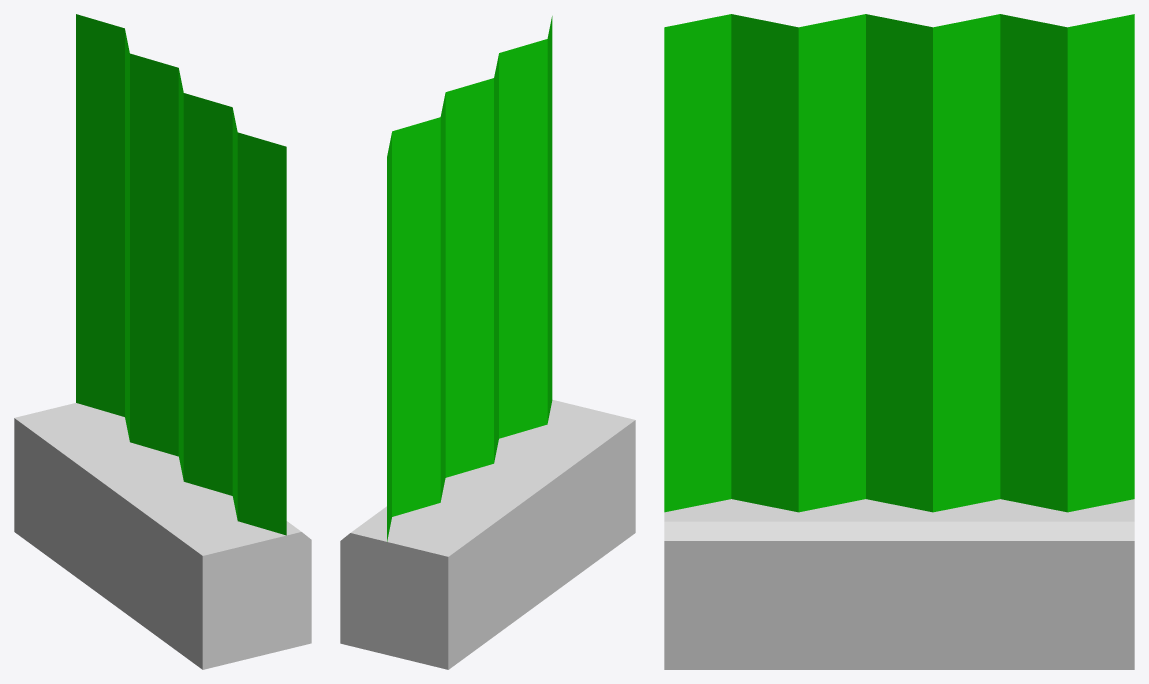
Rendered from vanna.fbx.
The picture shows the model from 3 angles, left to right: view 1: azimuth 30°, elevation 25°; view 2: azimuth 150°, elevation 25°; view 3: azimuth 270°, elevation 25°; orthographic projection. The views are drawn at different scales.
Visible parts, largest first — view 1: Plane, Cube; view 2: Plane, Cube; view 3: Plane, Cube.
Part boxes in pixels (left/top/right/bottom): Plane: left=76, top=14, right=286, bottom=535; Cube: left=14, top=403, right=311, bottom=669; Plane: left=387, top=16, right=552, bottom=541; Cube: left=340, top=399, right=635, bottom=669; Plane: left=664, top=14, right=1134, bottom=512; Cube: left=664, top=499, right=1134, bottom=669.
Size of the model in its own units: 200 by 882 by 600.
